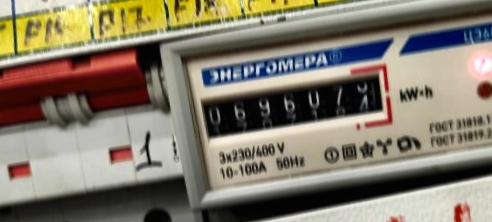0: (302, 84, 320, 108), (203, 102, 220, 125)
4: (353, 90, 369, 113)
6: (228, 97, 245, 120), (277, 90, 294, 112)
7: (327, 82, 345, 105)
9: (253, 94, 269, 116)
screen: (184, 59, 396, 148)
